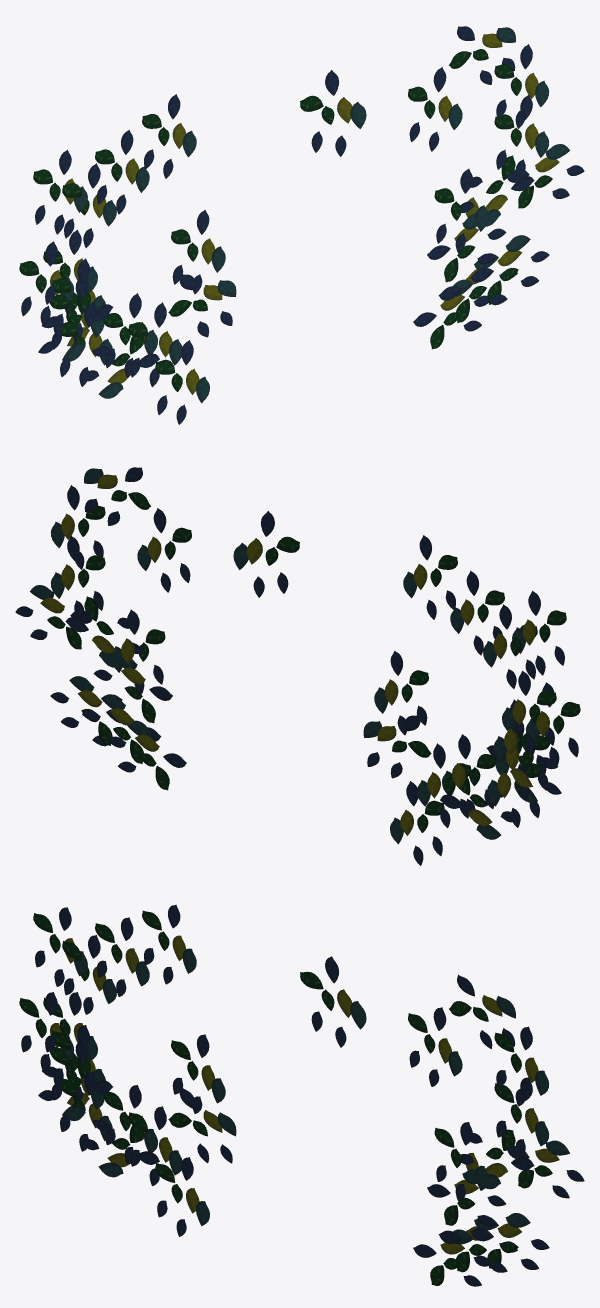
The model's file is Fulles_Arbre_New.fbx.
3 views of the same model, one above another, from view 1: azimuth 30°, elevation 25°; view 2: azimuth 150°, elevation 25°; view 3: azimuth 330°, elevation 25° (orthographic).
Visible parts, largest first — view 1: Fulles_Arbre_New; view 2: Fulles_Arbre_New; view 3: Fulles_Arbre_New.
Boxes of the visible parts, bbox=[...] form: Fulles_Arbre_New: bbox=[19, 26, 584, 424]; Fulles_Arbre_New: bbox=[15, 467, 580, 865]; Fulles_Arbre_New: bbox=[19, 904, 584, 1286].
Bounding box in the file's own units: 12.61 × 7.21 × 9.16e-05.
